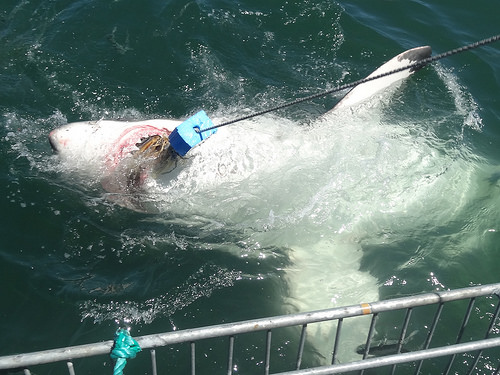shark: (37, 37, 483, 363)
